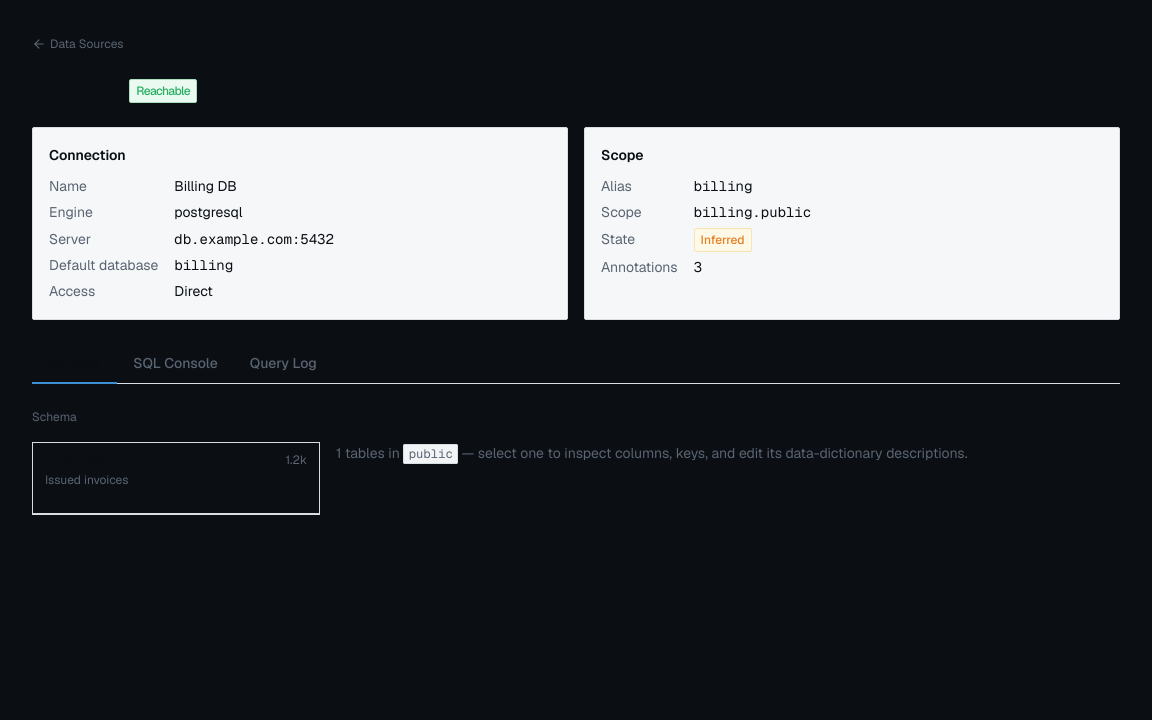
Test: Data source detail › opens a table by scope id
Click the button "invoices 1.2k Issued invoices" at (74, 460), box [33, 443, 319, 514]
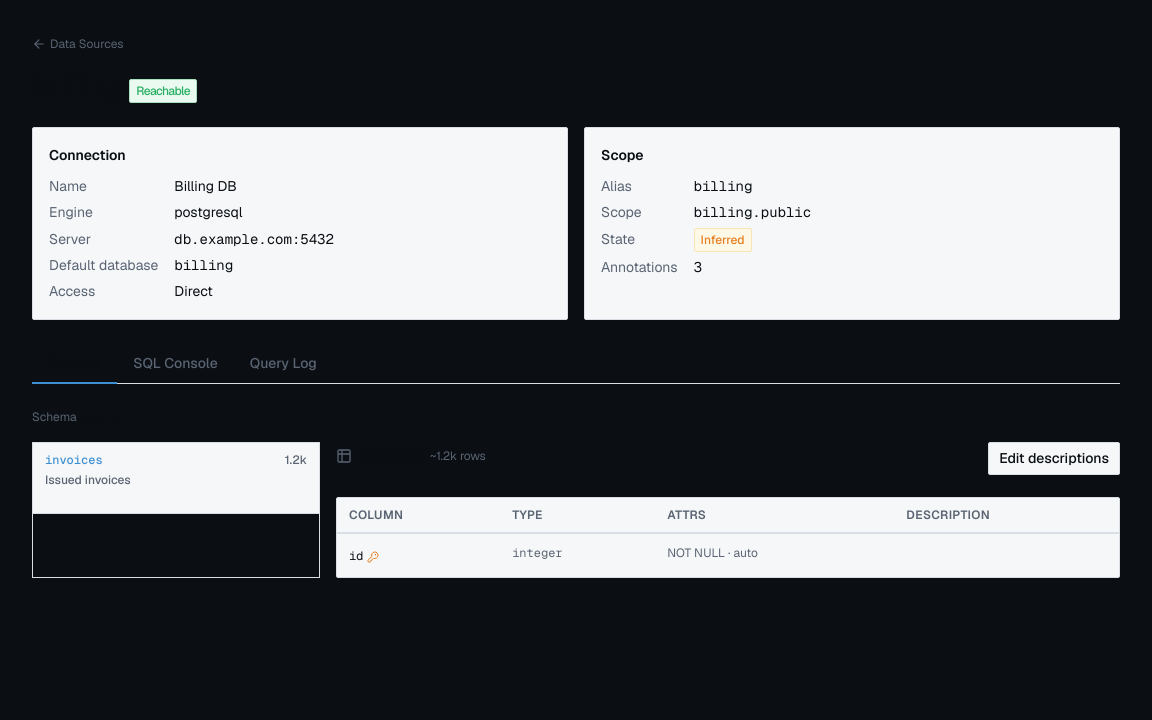
Expected: the heading "invoices ~1.2k rows" is shown, [336, 442, 486, 469]
